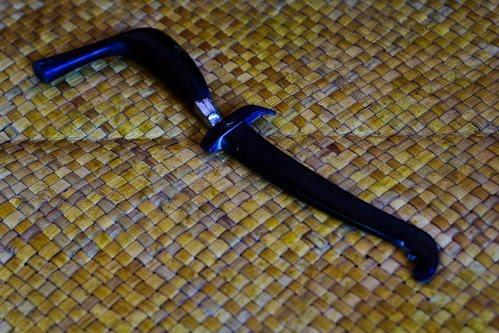facao: (33, 28, 440, 281)
